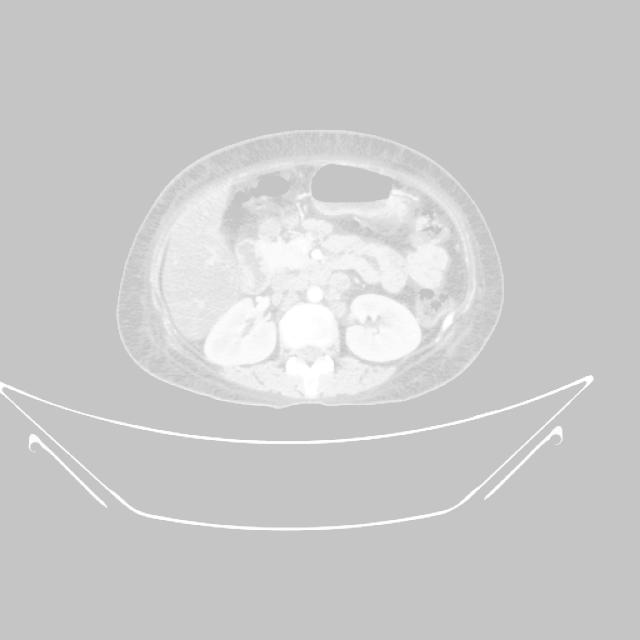NORMAL: (118, 129, 509, 432)
